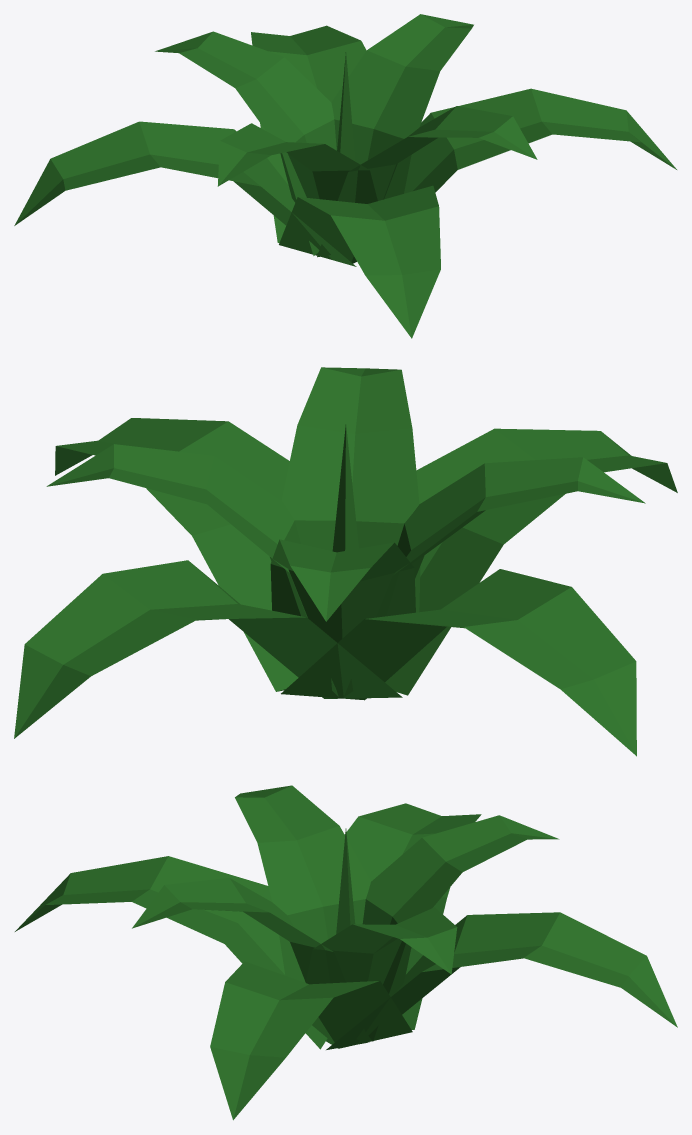
File: plant.obj
3 renders of one model, top to bottom at view 1: azimuth 30°, elevation 25°; view 2: azimuth 150°, elevation 25°; view 3: azimuth 270°, elevation 25°, orthographic. The views are drawn at different scales.
Parts seen in each view (by area): view 1: Cube.005_Cube.000; view 2: Cube.005_Cube.000; view 3: Cube.005_Cube.000.
Boxes of the visible parts, bbox=[...] form: Cube.005_Cube.000: bbox=[14, 14, 676, 338]; Cube.005_Cube.000: bbox=[14, 367, 677, 756]; Cube.005_Cube.000: bbox=[15, 785, 677, 1120].
Bounding box in the file's own units: 1.29 × 0.4584 × 1.29.
1 material, 1 textured.
